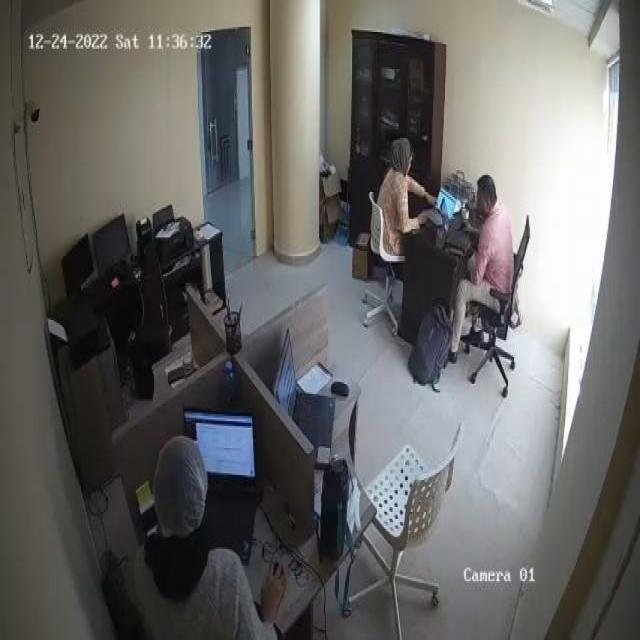bare_hand: (260, 552, 295, 623), (417, 204, 440, 232), (421, 182, 442, 209), (462, 217, 478, 243)
